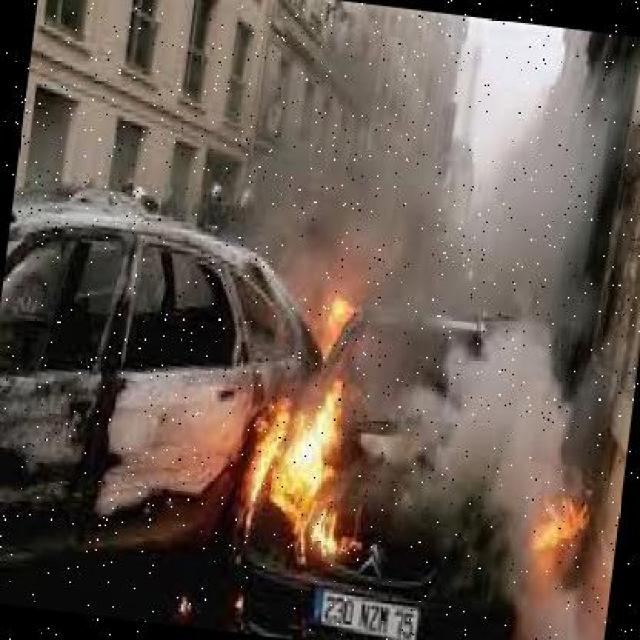fire: (215, 360, 392, 588), (520, 468, 603, 566), (300, 277, 371, 366)
